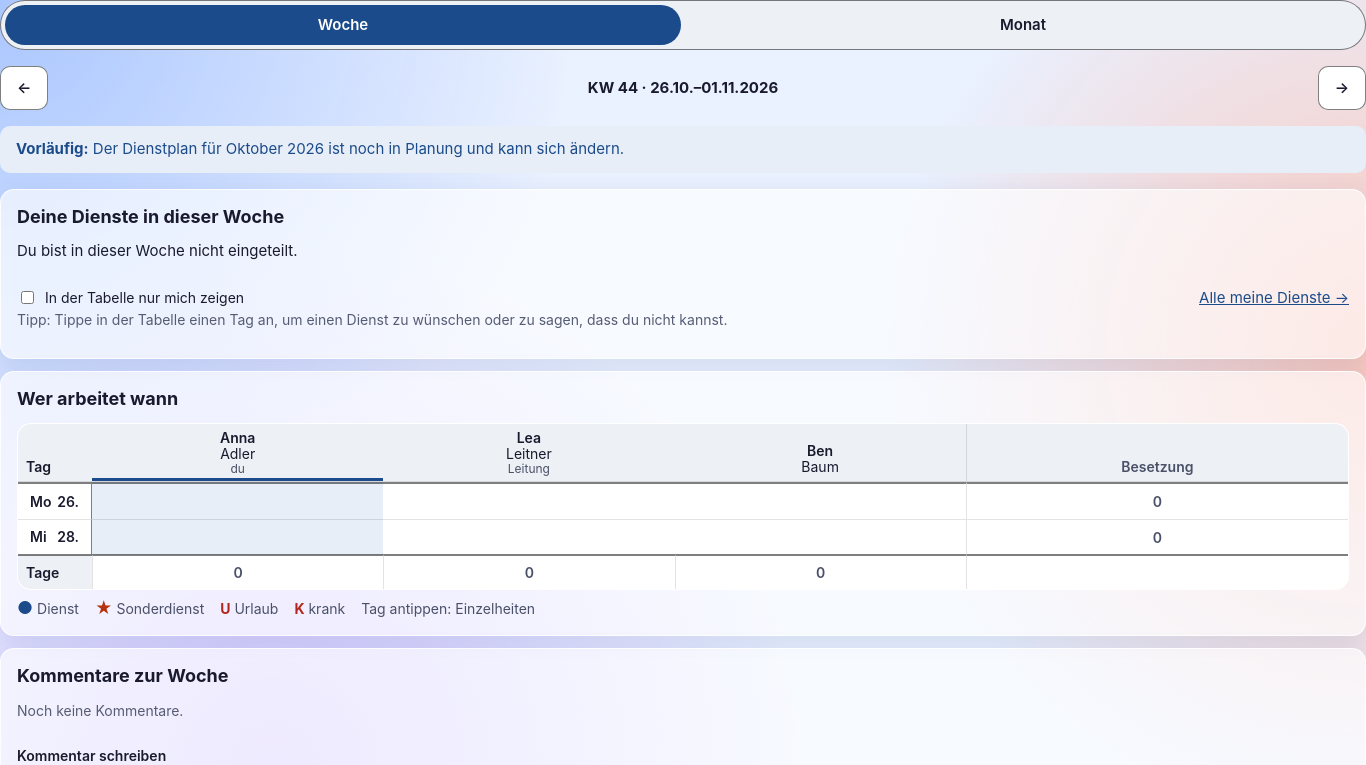
Test case: Dienstplan: Umschalter Woche und Monat › der Zeitraum bleibt beim Umschalten: Woche im nächsten Monat → Monat zeigt diesen Monat
The image size is (1366, 765).
// Wochen vorblättern, bis der Montag im nächsten Monat liegt
Click the button "→". click: (1342, 88)
box: [1318,66,1365,110]
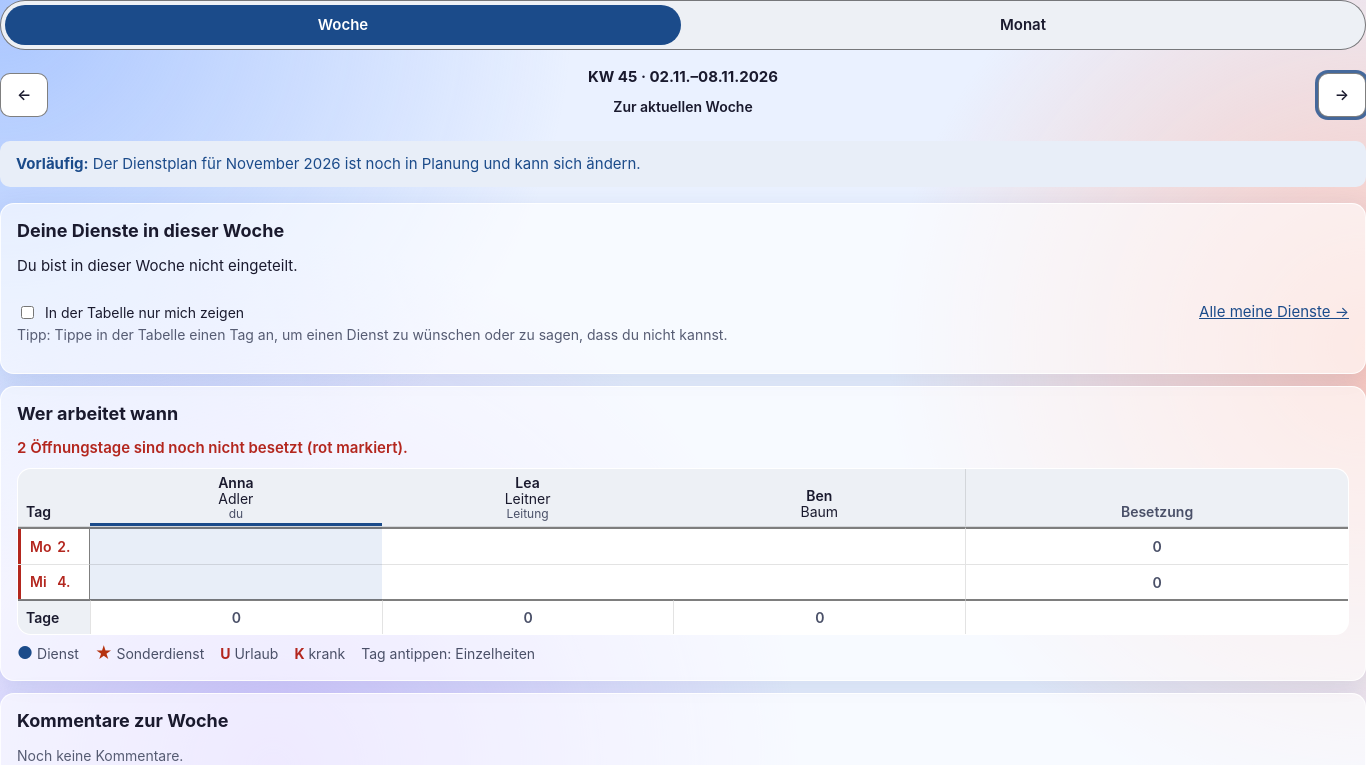
Click the button "Monat". click: (1023, 25)
box: [685,5,1361,45]
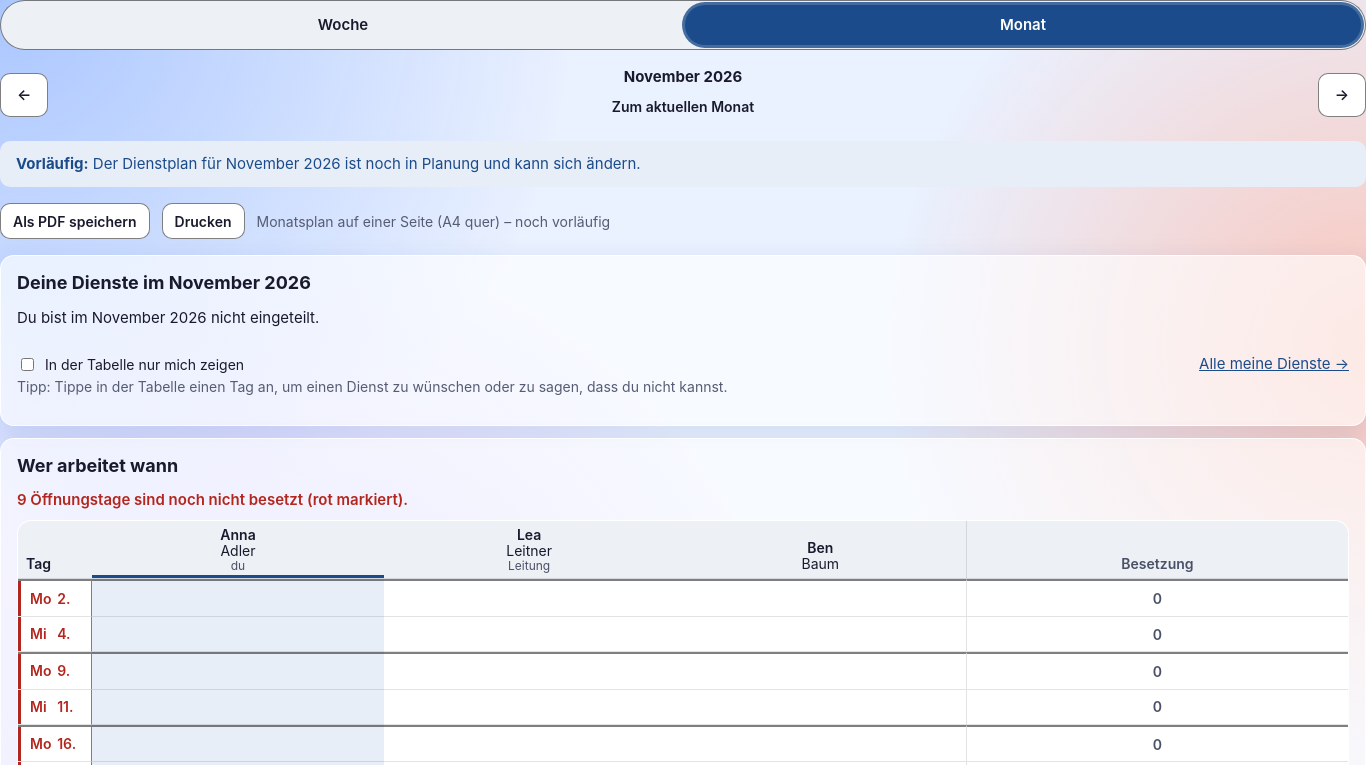
Result: the text "November 2026" is shown at [624,67,742,86]
